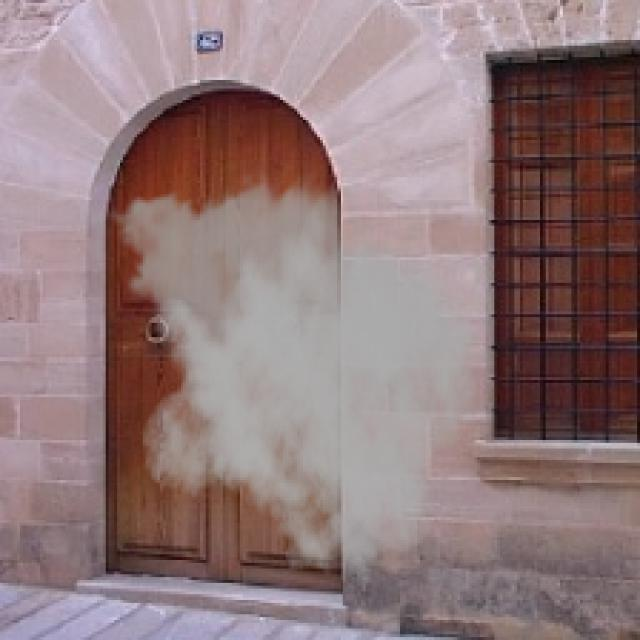Smoke: (103, 168, 480, 588)
